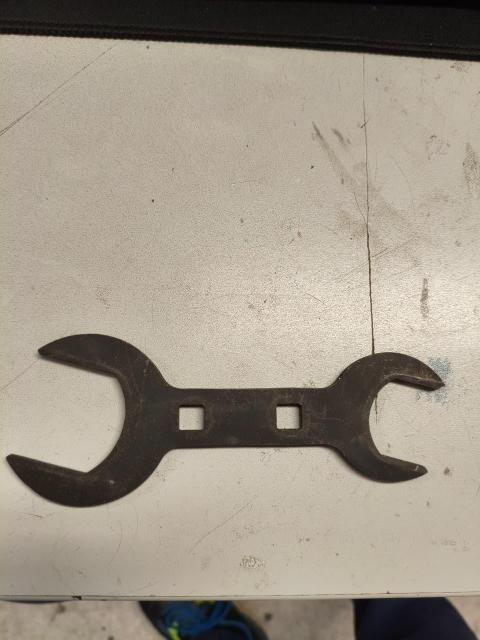Metal: (12, 315, 445, 502)
